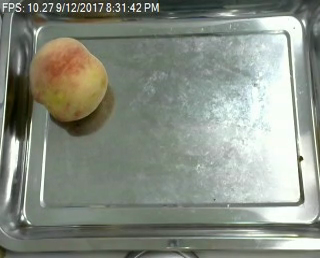Peach: (27, 36, 109, 123)
